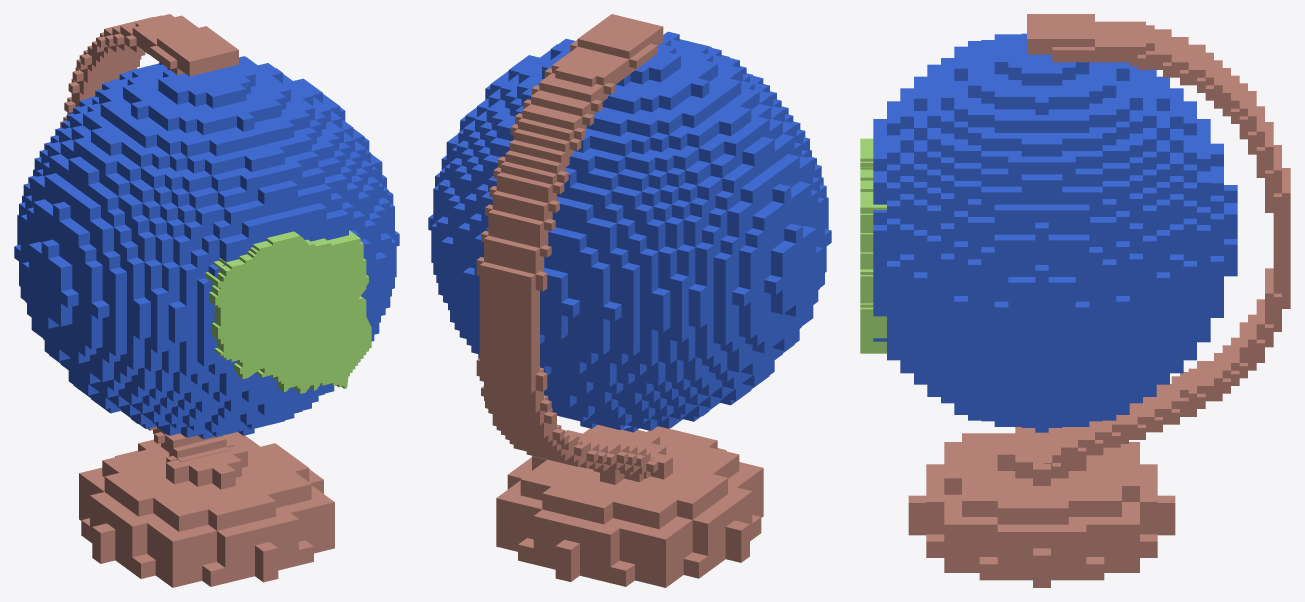
File: Polish_glob.fbx
The picture shows the model from 3 angles, left to right: view 1: azimuth 30°, elevation 25°; view 2: azimuth 150°, elevation 25°; view 3: azimuth 270°, elevation 25°; orthographic projection. The views are drawn at different scales.
Visible parts, largest first — view 1: pobrane; view 2: pobrane; view 3: pobrane.
Part boxes in pixels (x1,y1,x2,y2): pobrane: (14, 14, 399, 587); pobrane: (428, 14, 831, 587); pobrane: (860, 14, 1290, 587).
Size of the model in its own units: 164 by 234 by 181.
